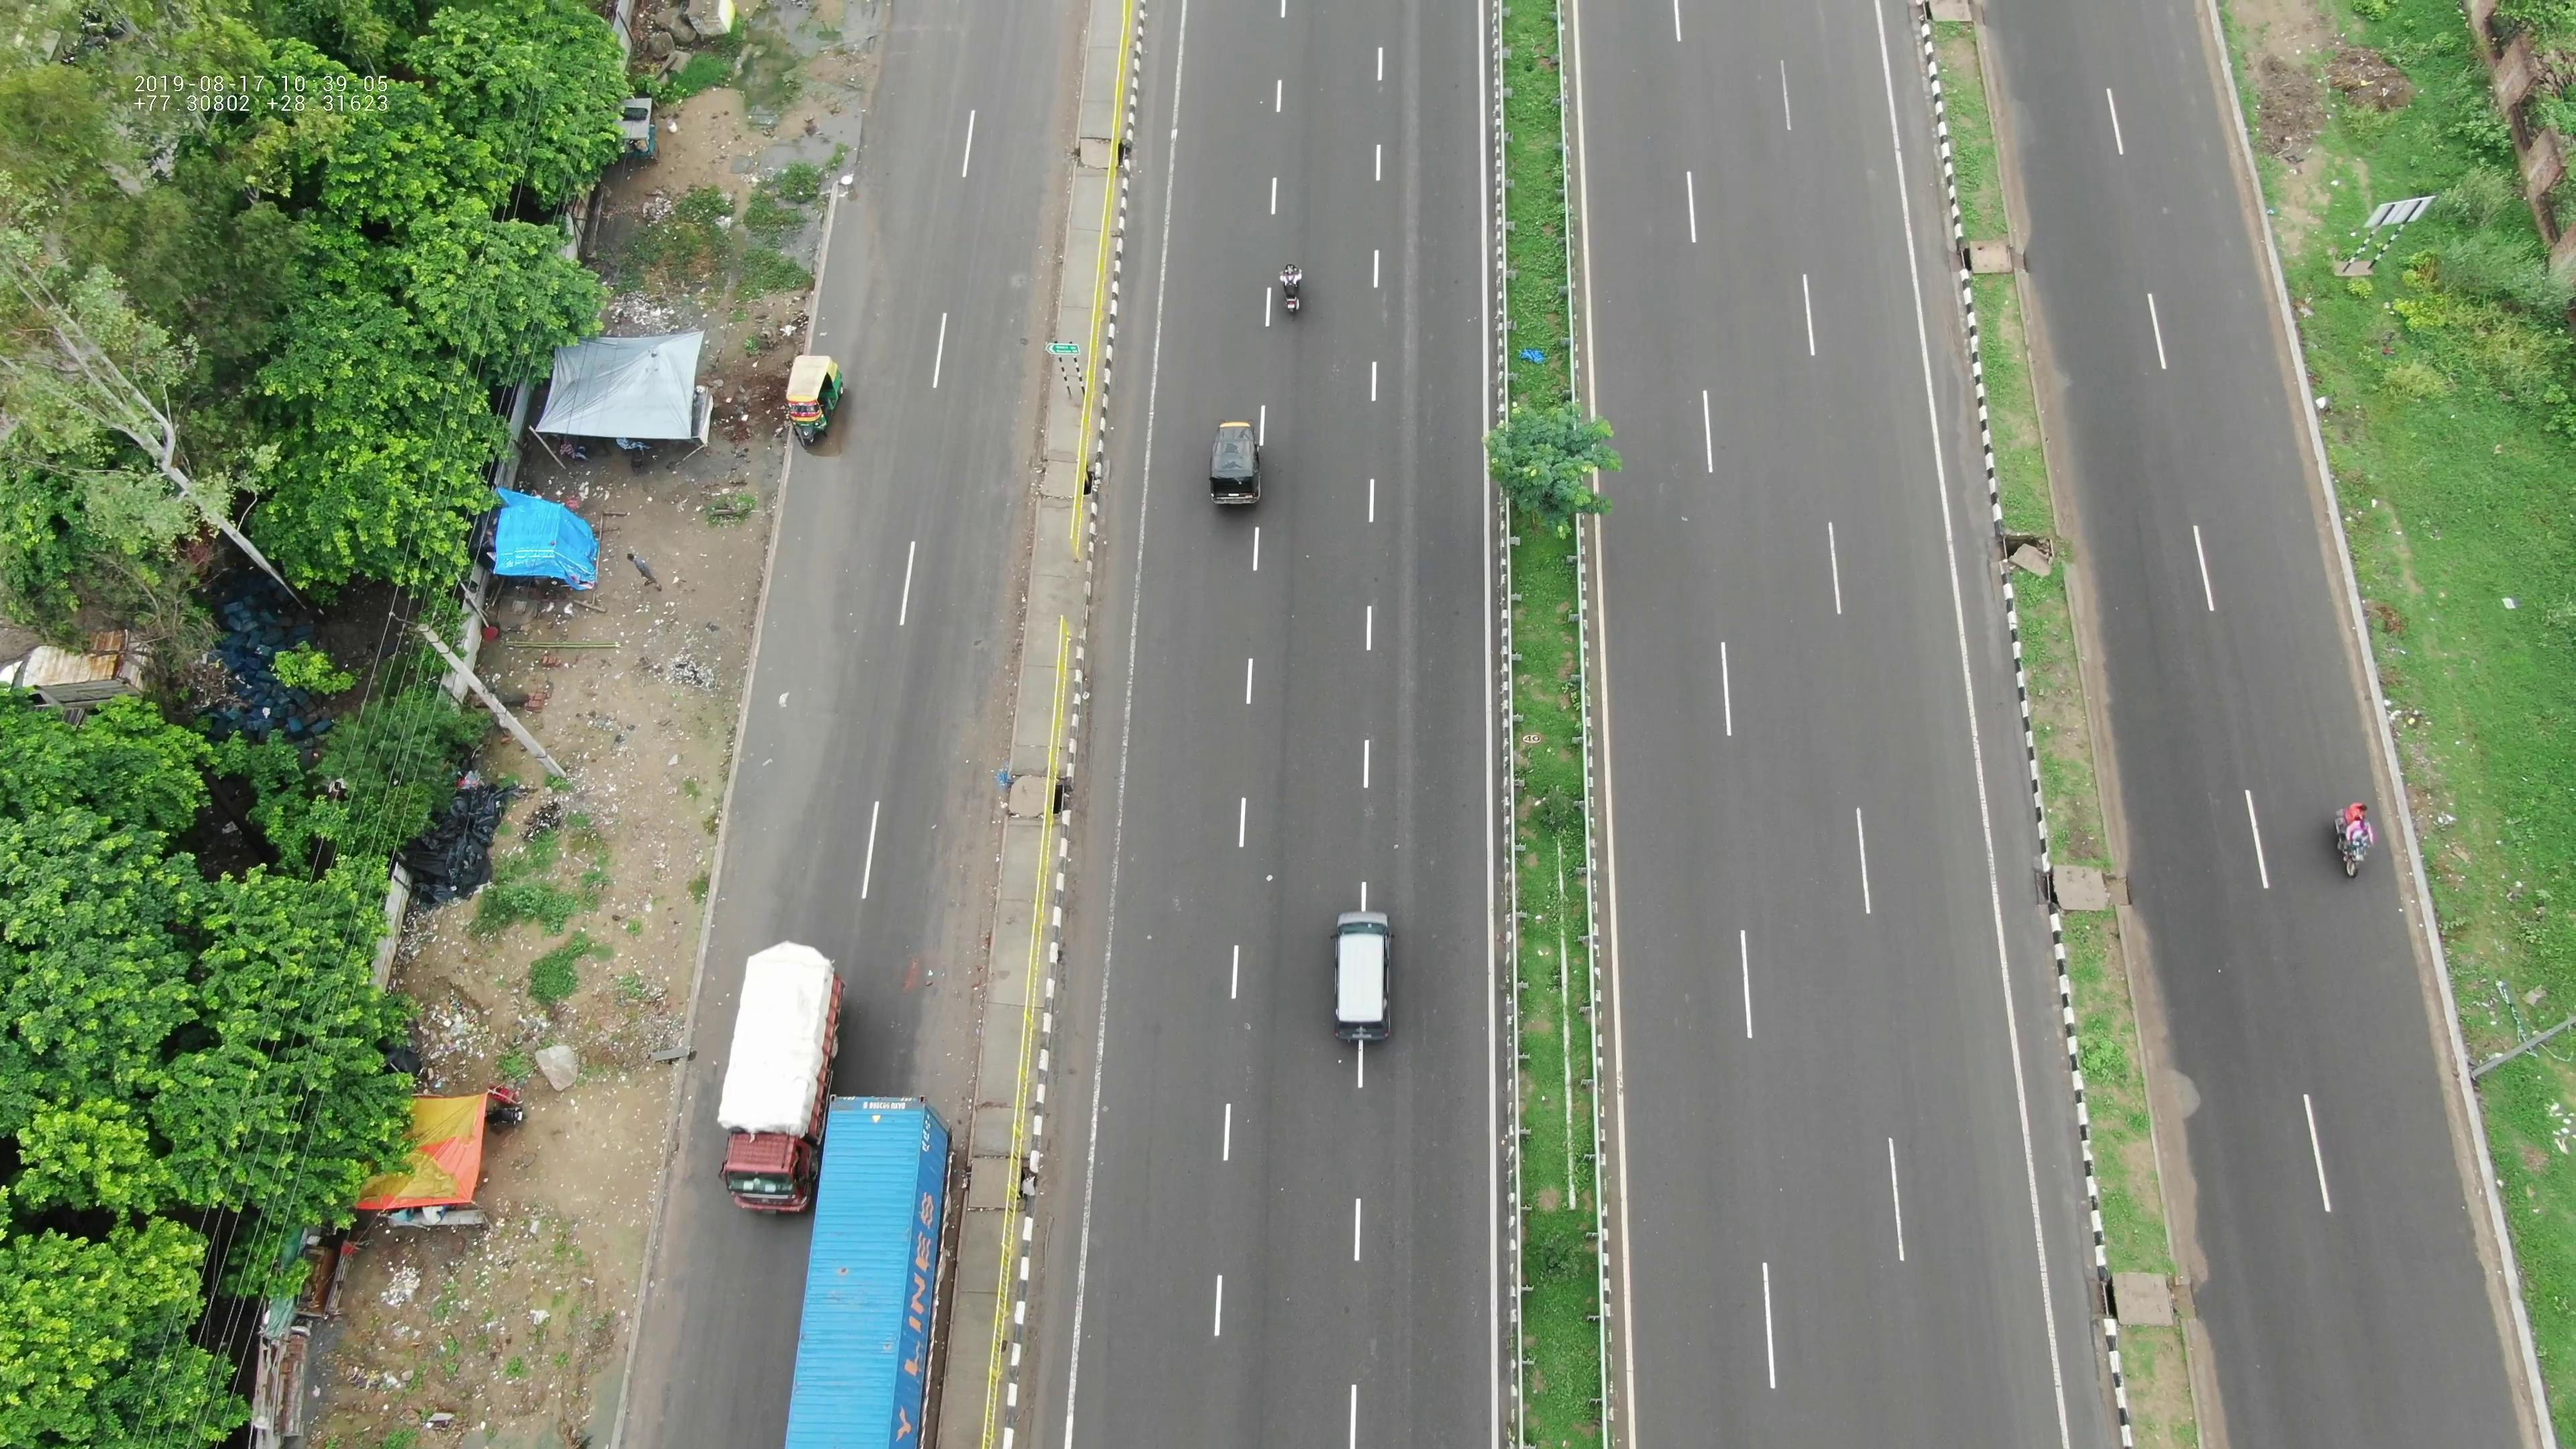Waterlogging: (729, 554, 847, 943)
